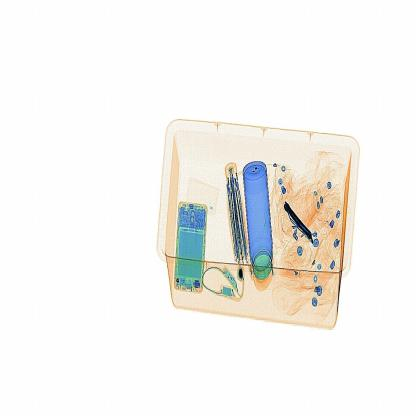knife: (283, 200, 313, 246)
